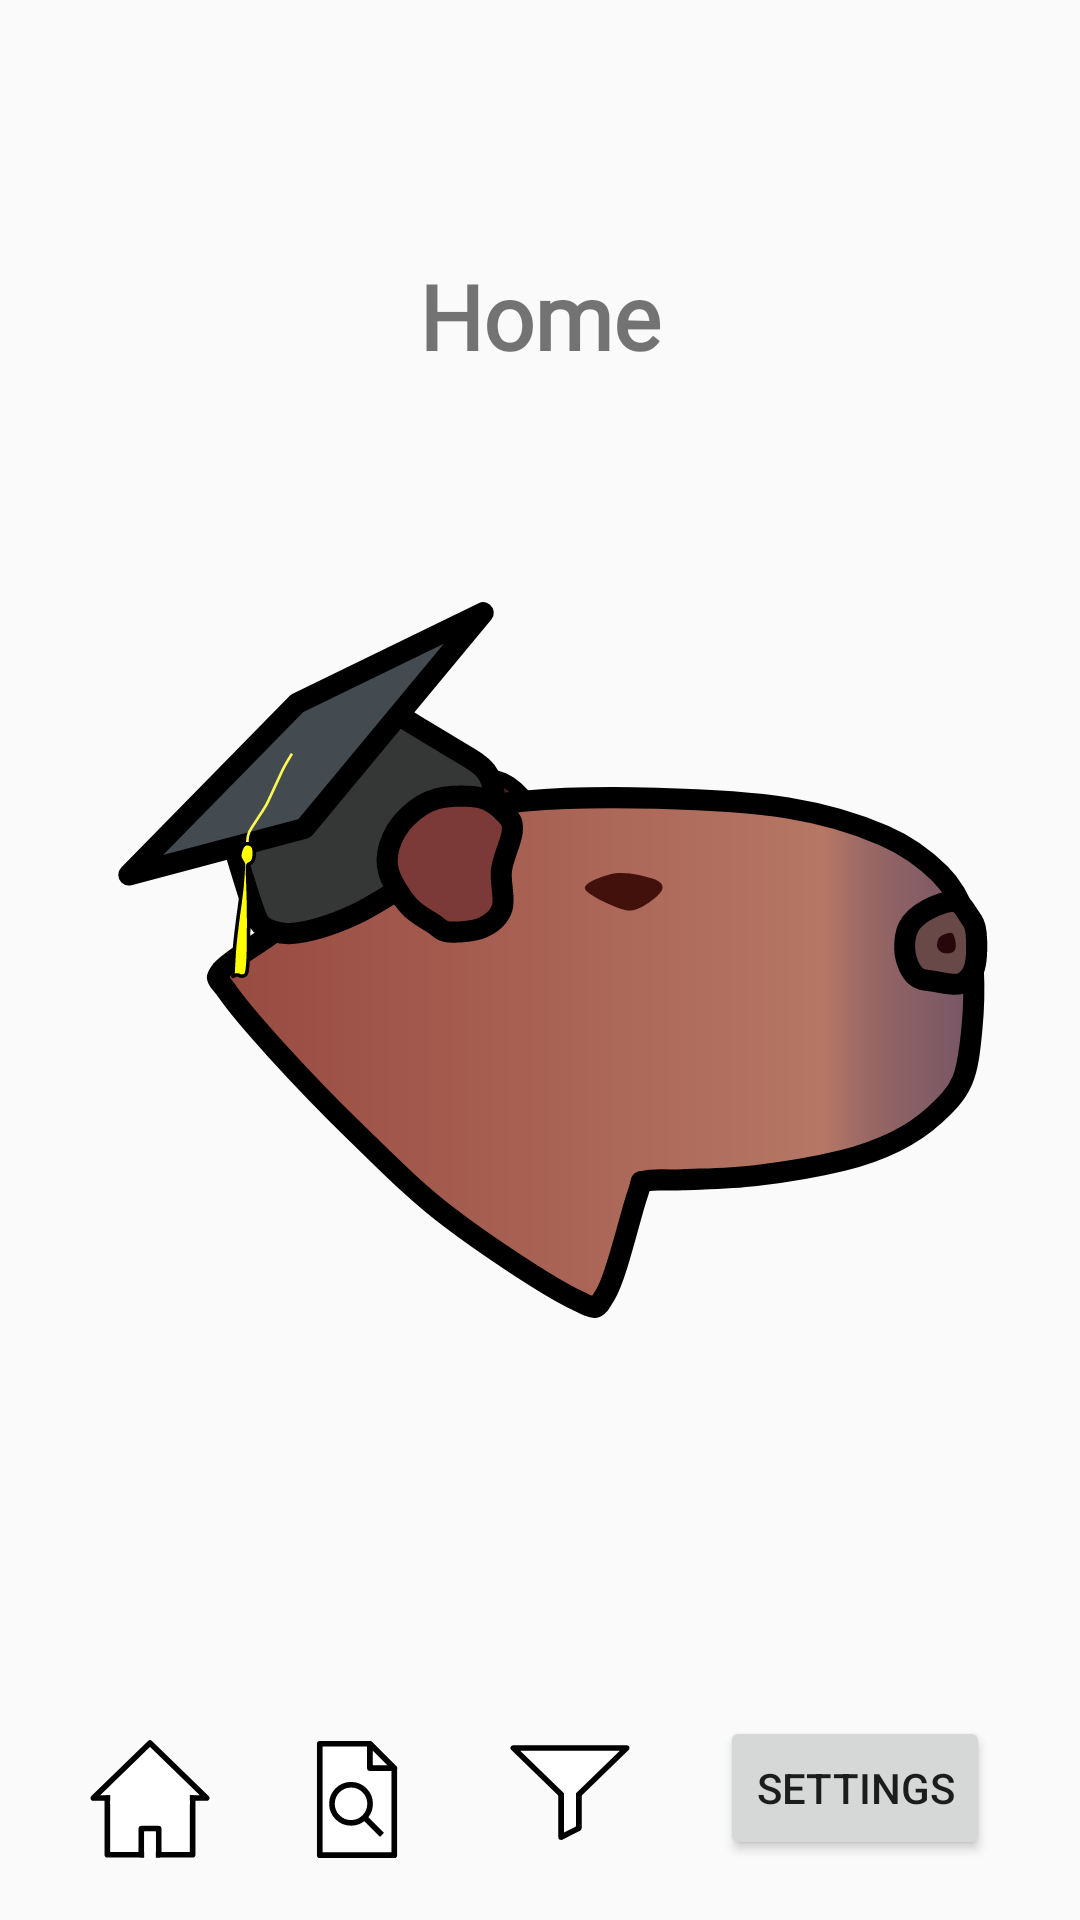

Where to tap for icons on this 1080w x 1920h app screen, as [x,y]:
filtericon: [570,1792]
homeiconunclicked: [150,1799]
viewicon: [357,1799]
